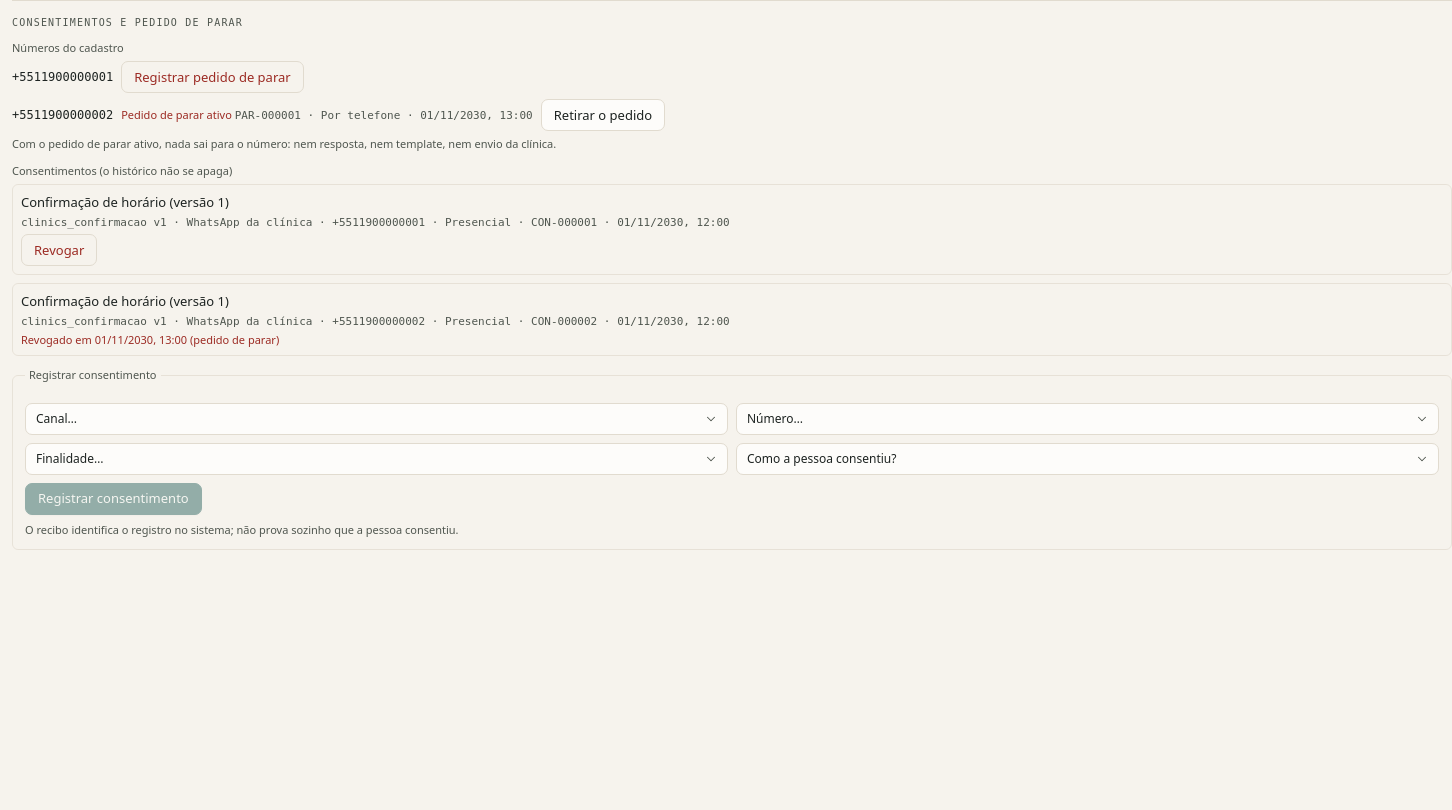
a ficha do contato: consentimentos e pedido de parar › o 5xx também é indefinido: a repetição leva a mesma chave
Select "WhatsApp da clínica" in the dropdown named "Canal do consentimento" at (376, 419), box [25,403,728,435]
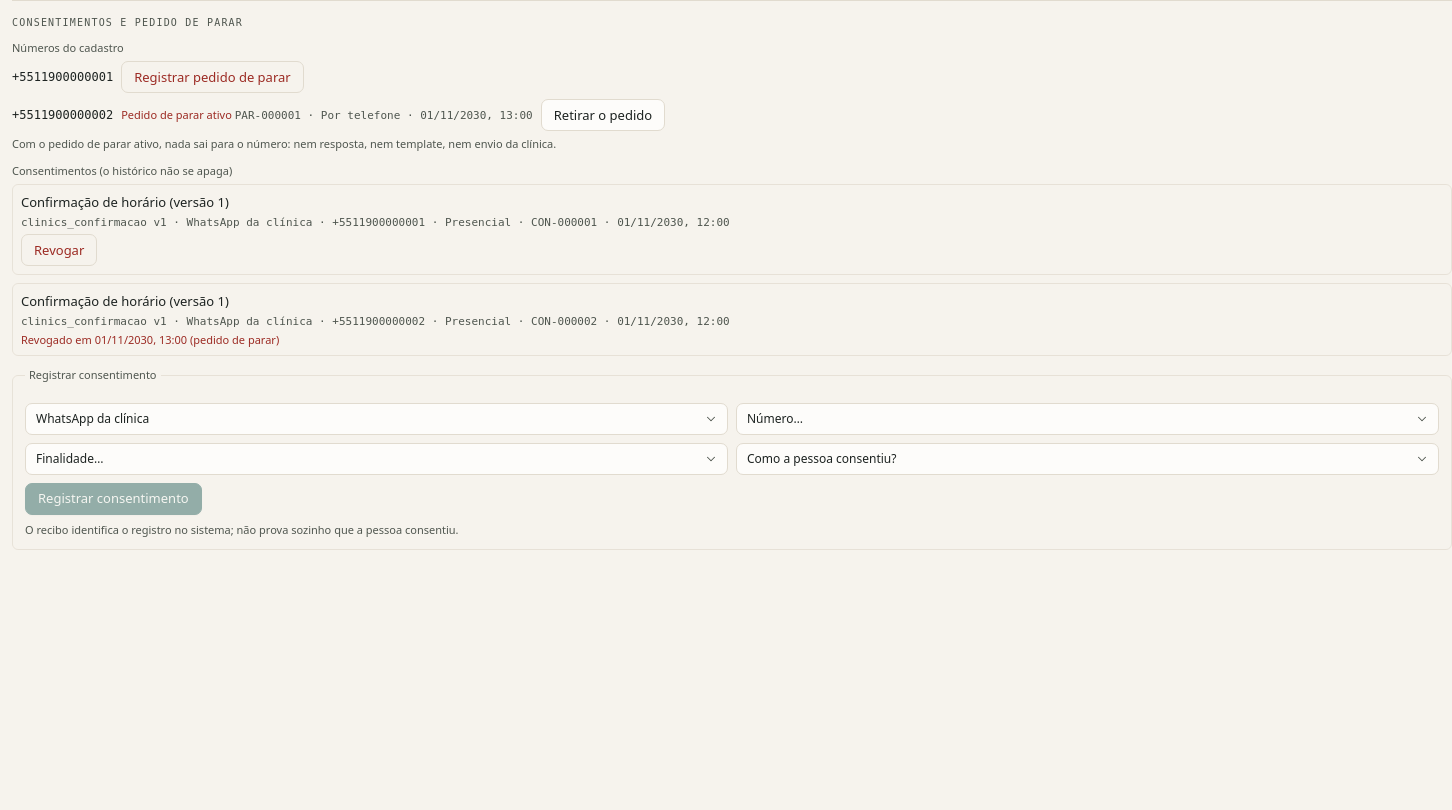
Select "+5511900000001" in the dropdown named "Número do consentimento" at (1088, 419), box [736,403,1439,435]
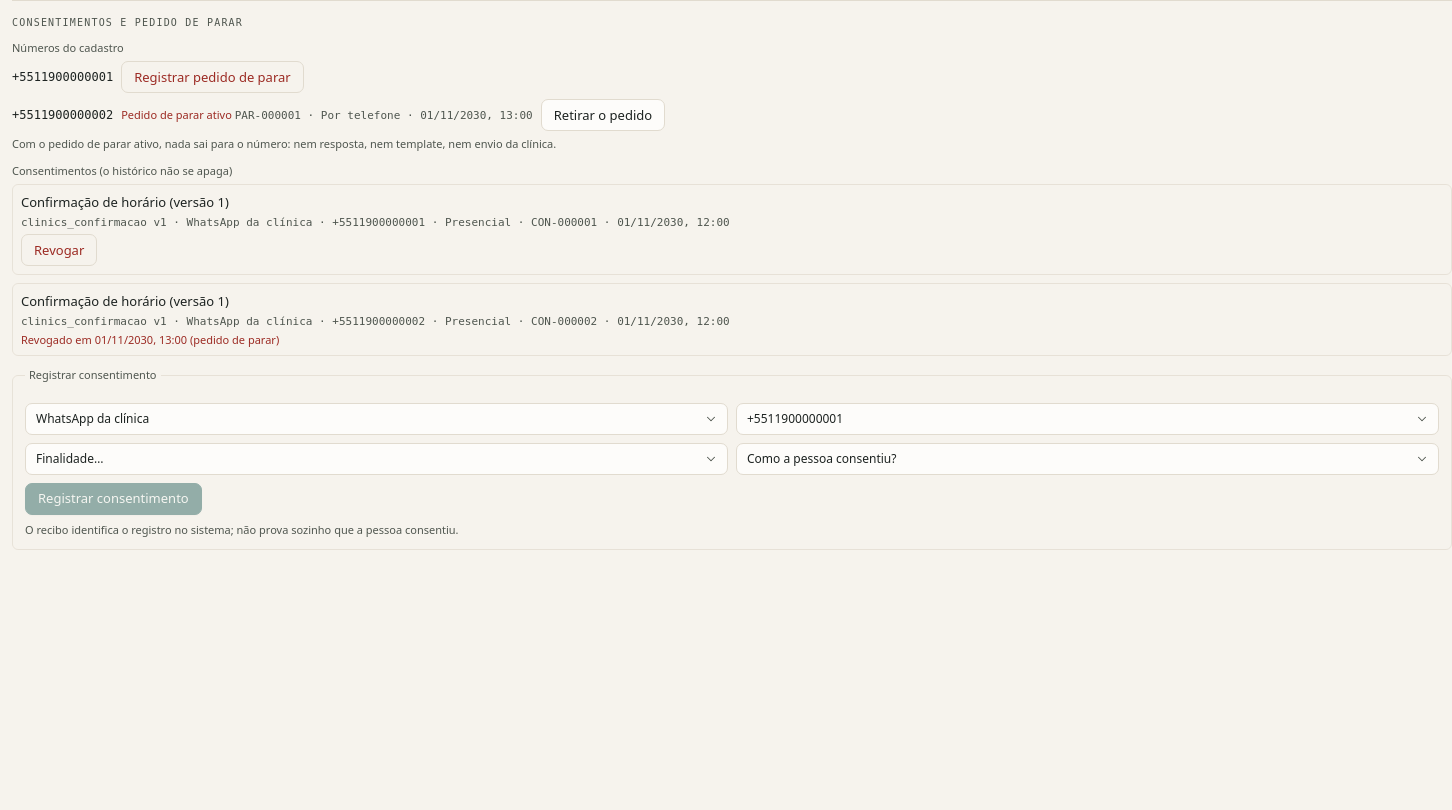
Select "clinics_confirmacao v2" in the dropdown named "Finalidade do consentimento" at (376, 459), box [25,443,728,475]
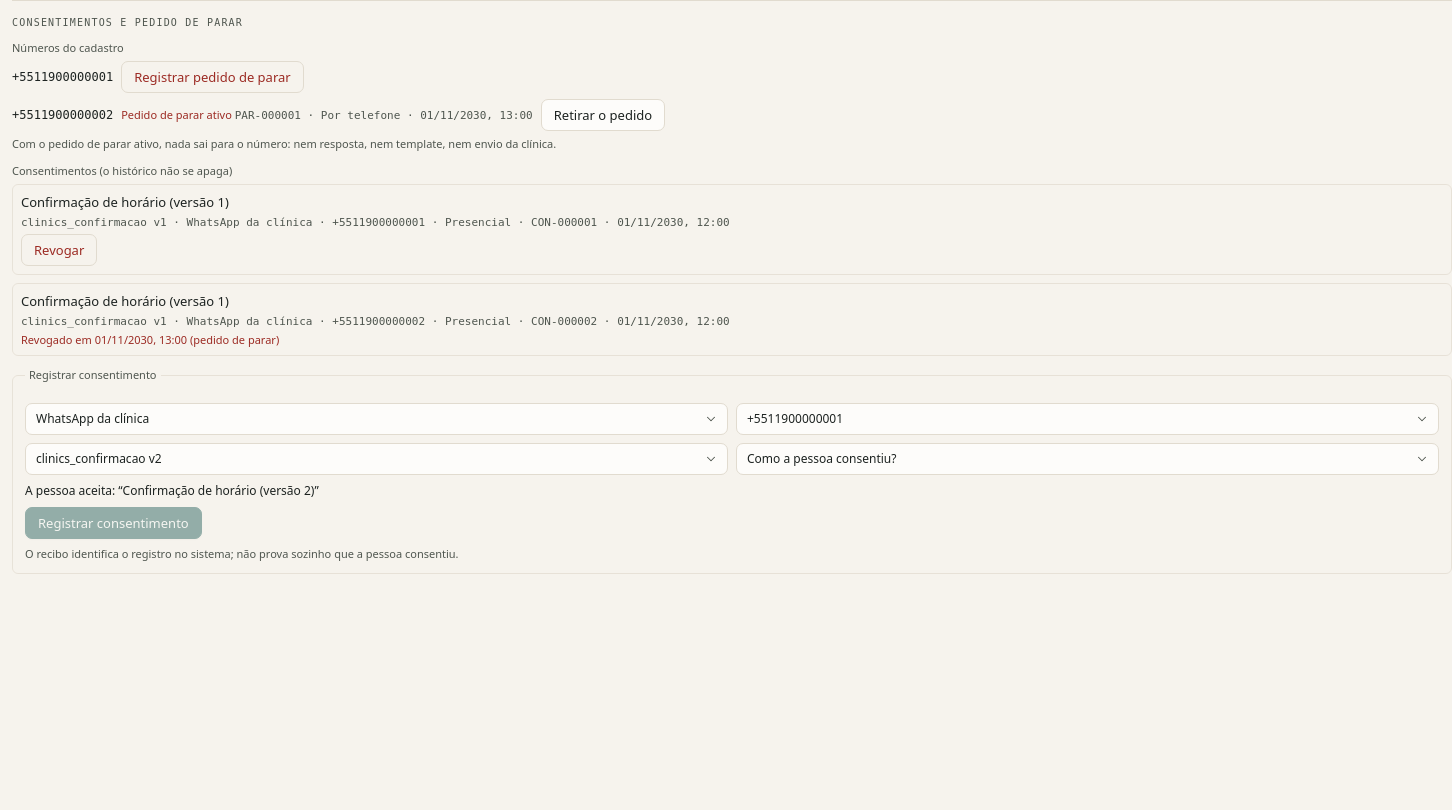
Select "Presencial" in the dropdown named "Origem do consentimento" at (1088, 459), box [736,443,1439,475]
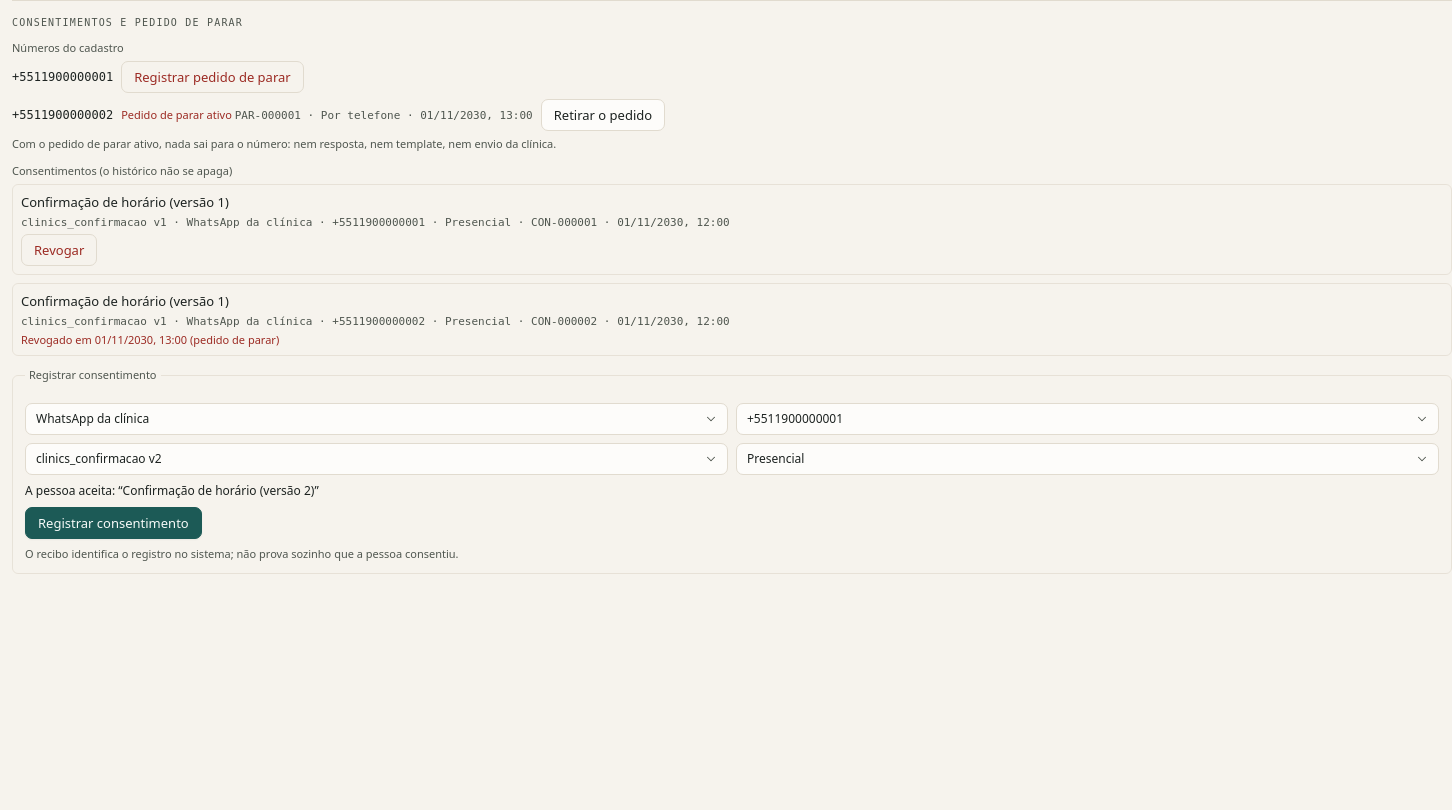
Click the button "Registrar consentimento" at (113, 523), box [25,507,202,539]
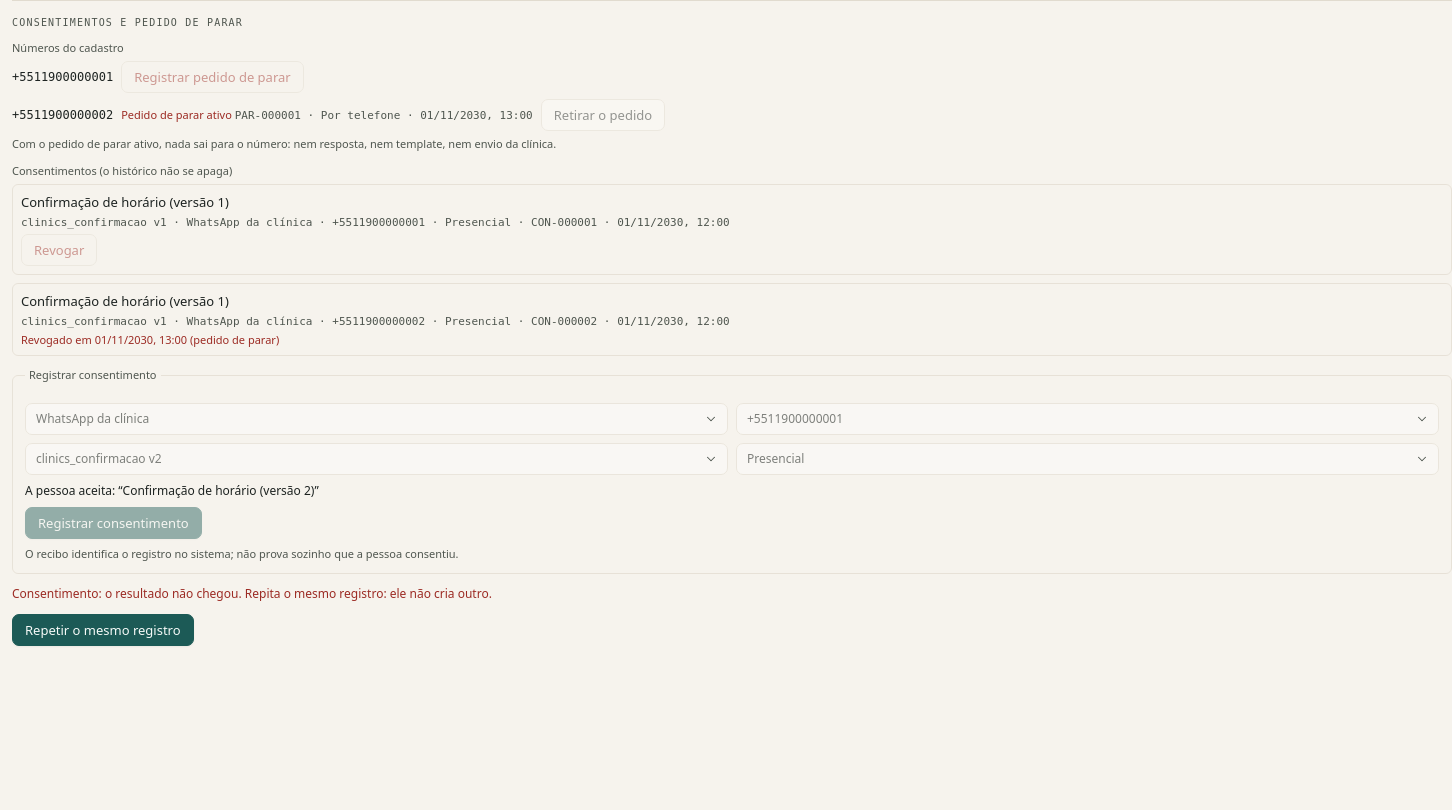
Click the button "Repetir o mesmo registro" at (103, 630), box [12,614,194,646]
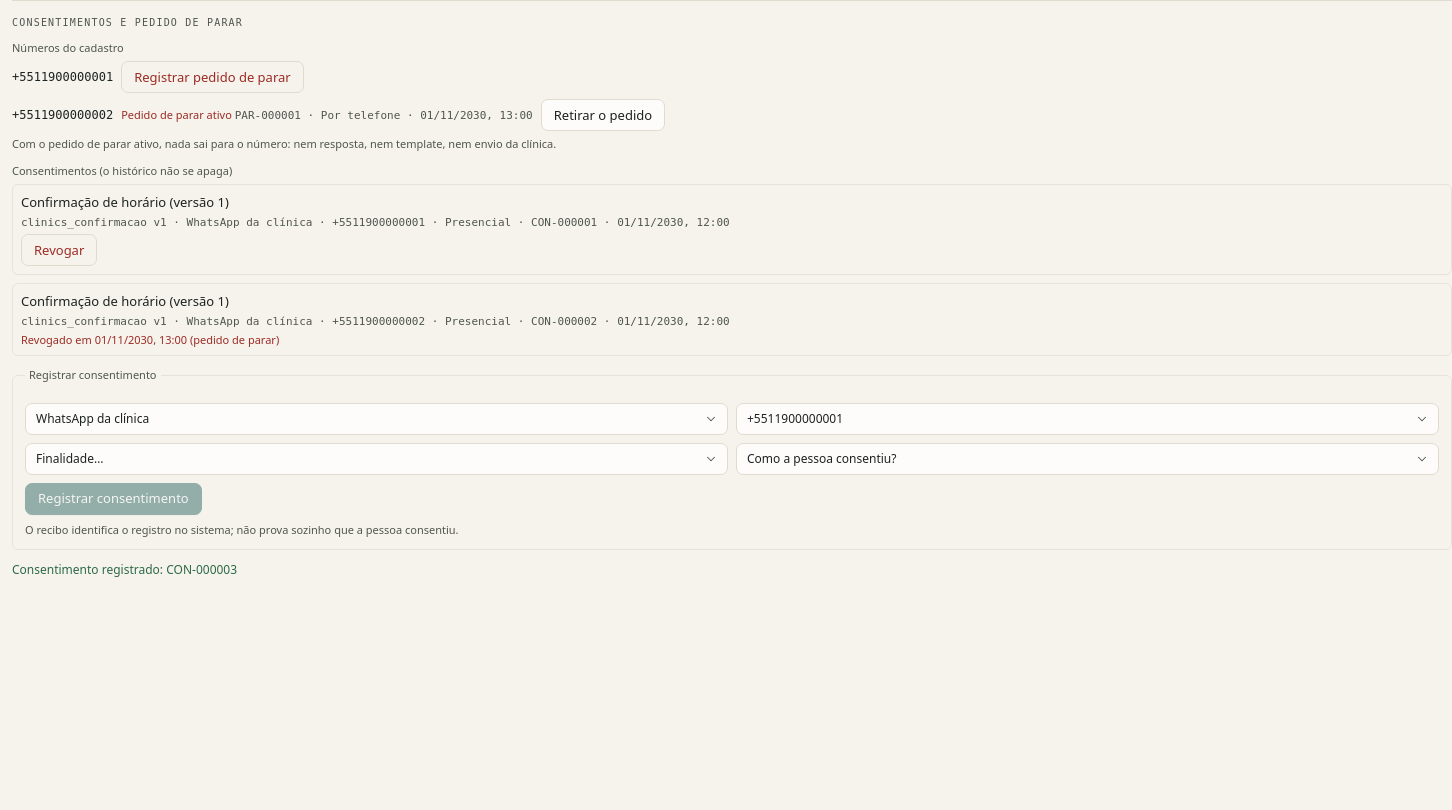
Expected: the message reads "Consentimento registrado: CON-000003", [12,561,237,578]
